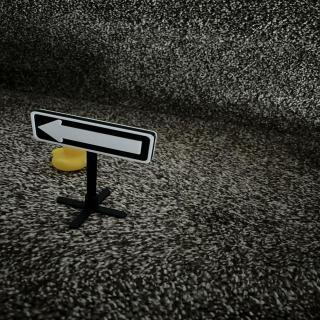duck_regular: (52, 147, 89, 174)
sign_oneway_left: (32, 111, 158, 165)
